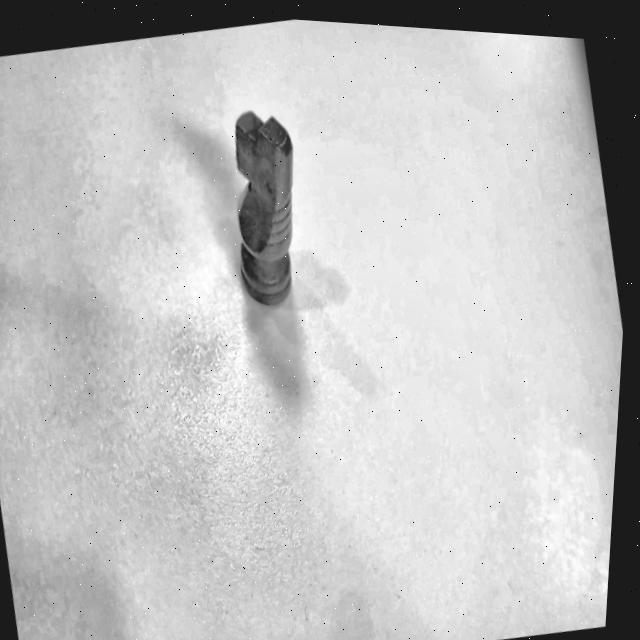black-knight: (200, 89, 334, 332)
